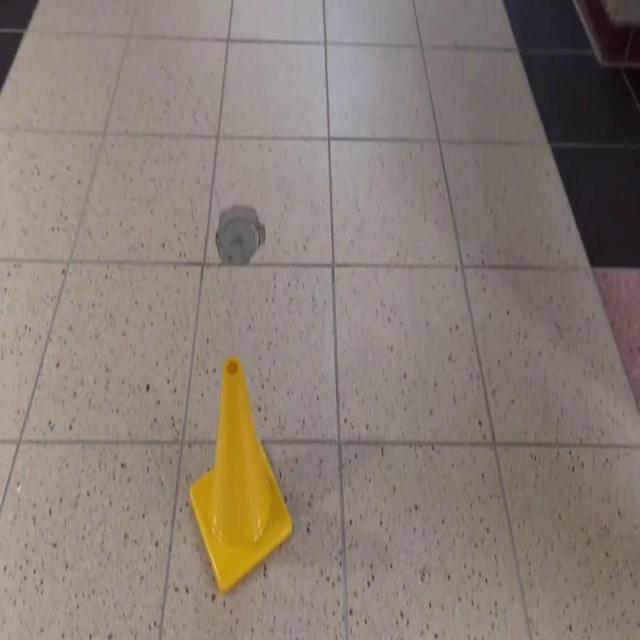frc_cone: (191, 355, 293, 599)
